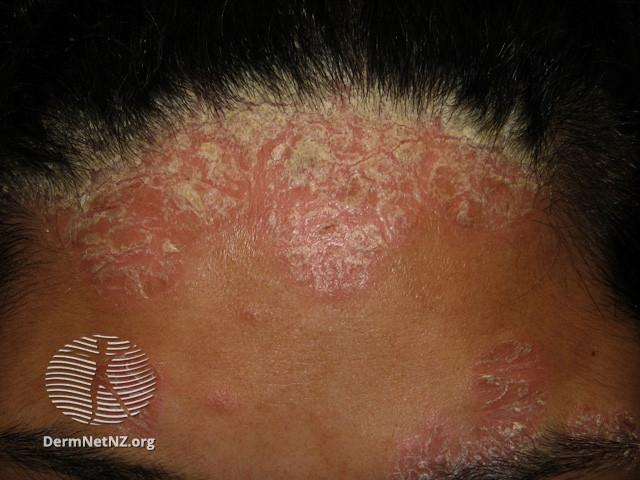Psoriasis: (0, 81, 625, 477)
